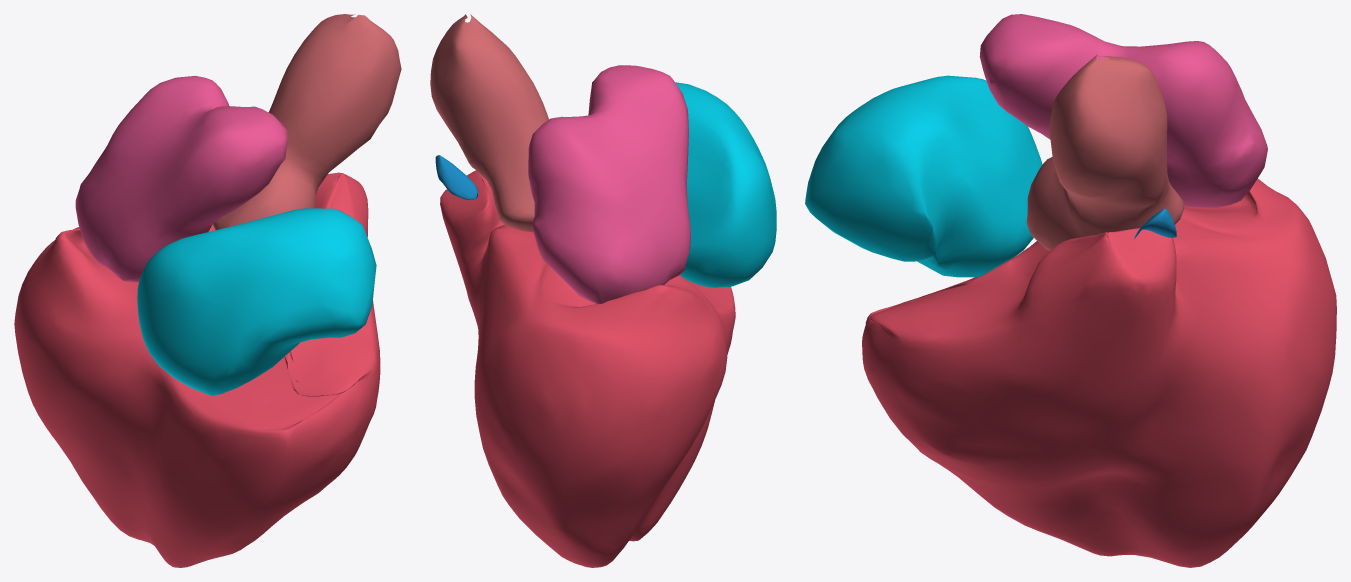
The model's file is frame_25.glb.
3 views of the same model, side by side, from view 1: azimuth 30°, elevation 25°; view 2: azimuth 150°, elevation 25°; view 3: azimuth 270°, elevation 25° (orthographic). The views are drawn at different scales.
Parts seen in each view (by area): view 1: Renderer Node; view 2: Renderer Node; view 3: Renderer Node.
Part boxes in pixels (left/top/right/bottom): Renderer Node: left=14, top=14, right=401, bottom=567; Renderer Node: left=430, top=14, right=776, bottom=567; Renderer Node: left=805, top=14, right=1336, bottom=567.
Size of the model in its own units: 102 by 154 by 123.
